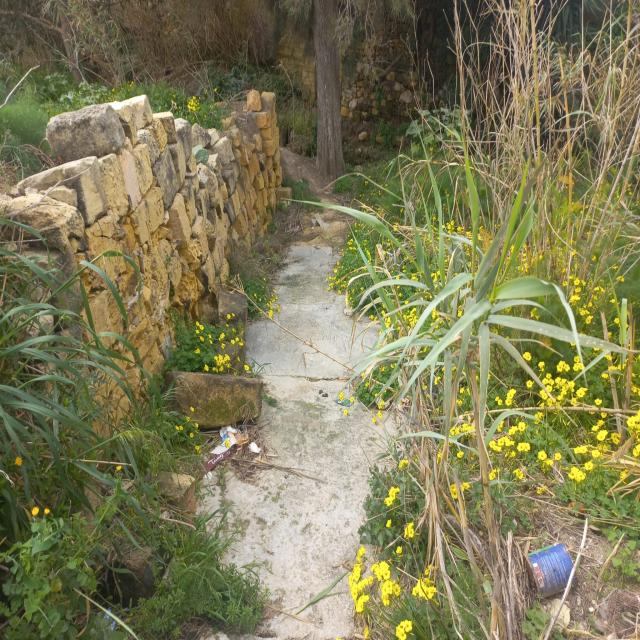Can: (522, 541, 580, 599)
Other litter: (335, 397, 353, 407)
Paper: (191, 437, 237, 479), (219, 425, 237, 440)
